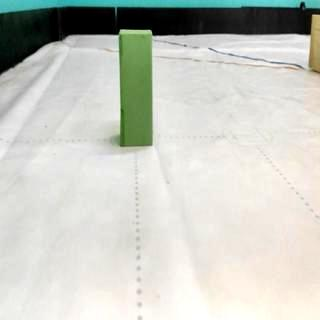greenbox: (116, 28, 156, 146)
